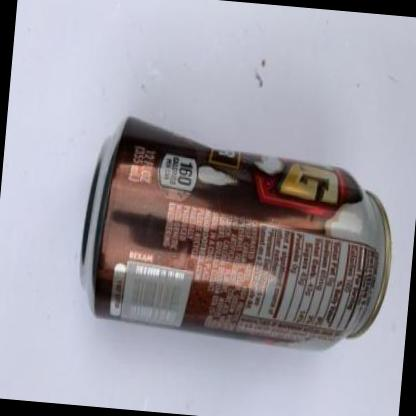alumunium_can: (72, 113, 402, 361)
